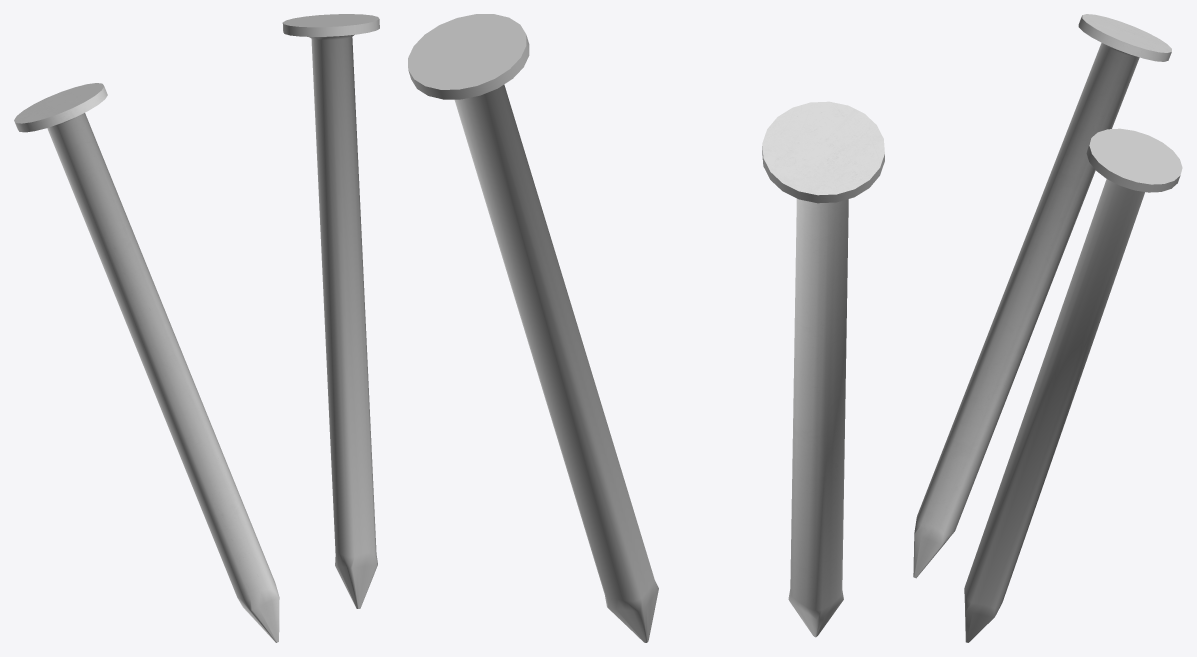
The picture shows the model from 3 angles, left to right: view 1: azimuth 30°, elevation 25°; view 2: azimuth 150°, elevation 25°; view 3: azimuth 270°, elevation 25°; orthographic projection. The views are drawn at different scales.
Visible parts, largest first — view 1: NailRust, Nail; view 2: NailRust, Nail; view 3: Nail, NailRust.
Boxes of the visible parts, x1,y1,x2,y2 form: NailRust: (282,14,379,608); Nail: (14,83,279,642); NailRust: (408,14,658,642); Nail: (762,101,884,637); Nail: (913,14,1171,578); NailRust: (964,128,1182,642).
Bounding box in the file's own units: 0.0181 × 0.0254 × 0.0118.
